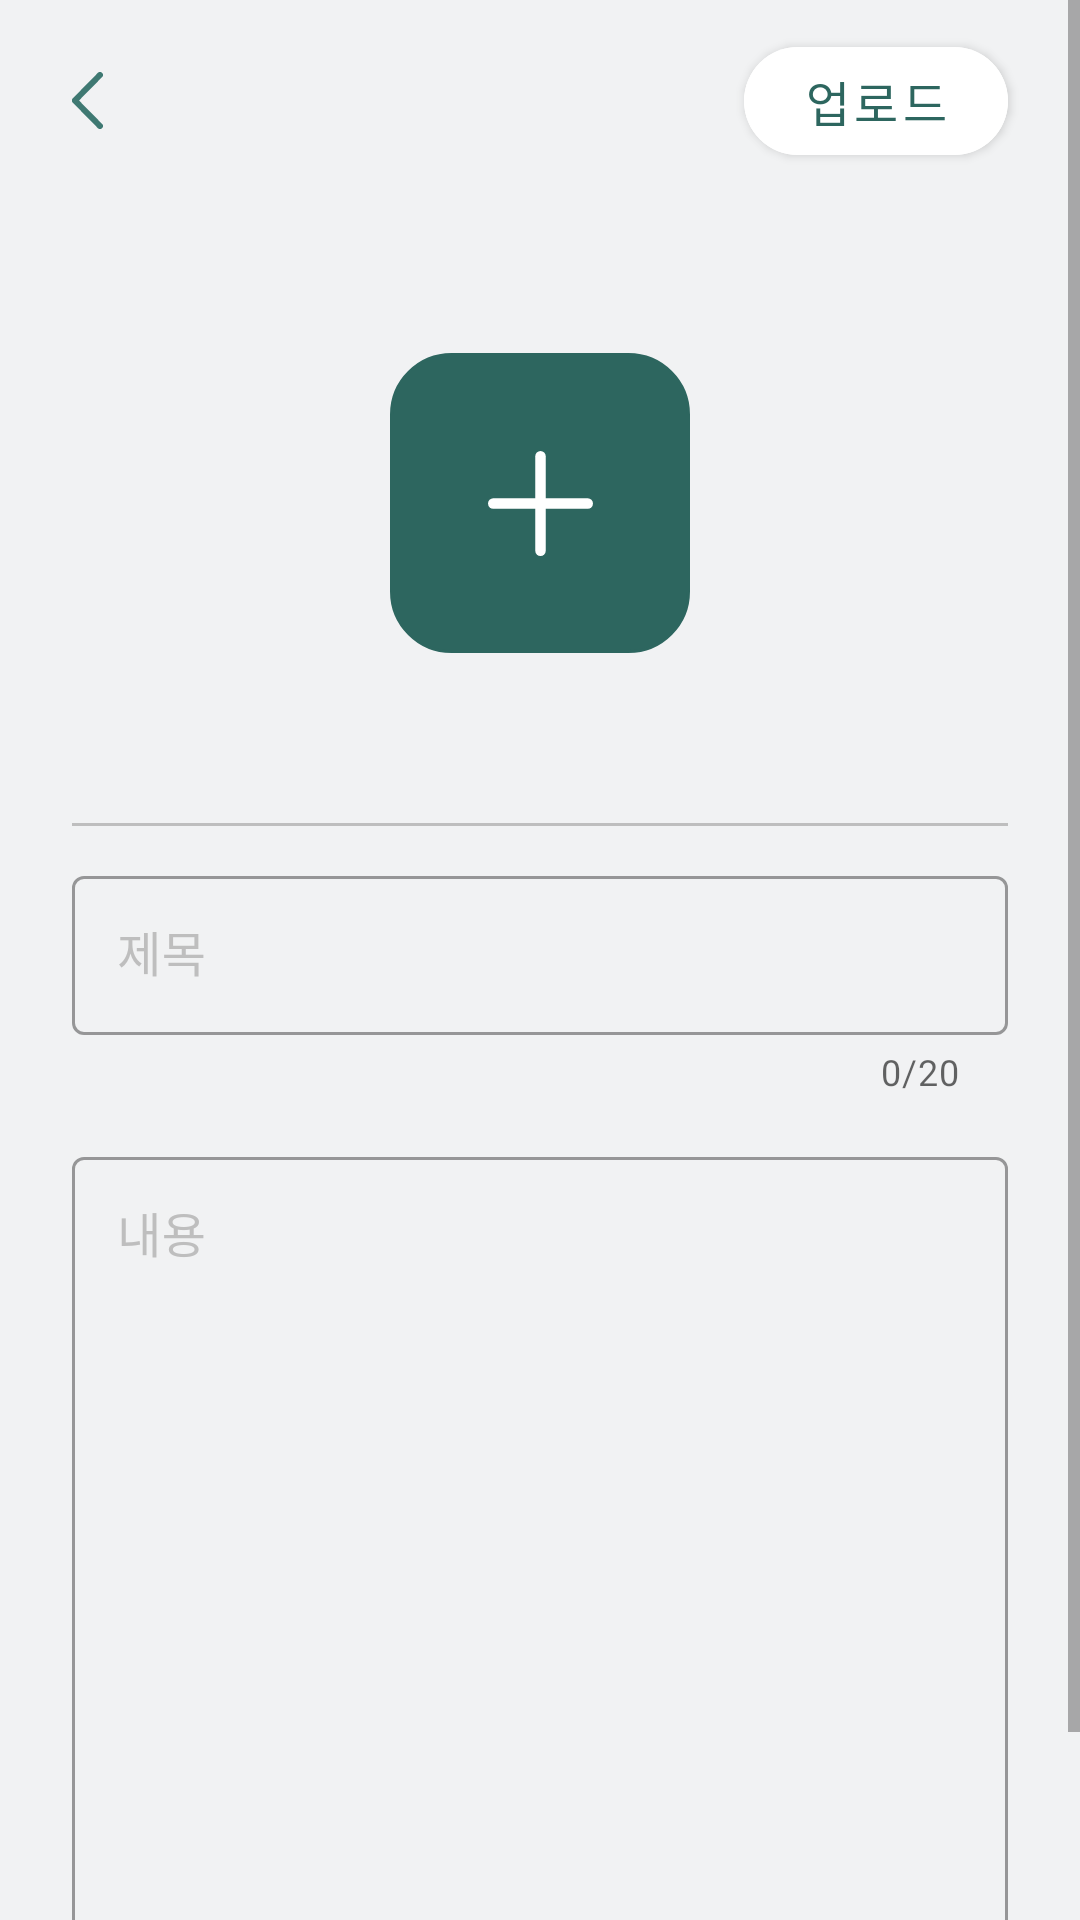

Point at icon controls on the screen. Image size 1080px x 1920px, points as (x,y).
back: (87,100)
plus: (540,503)
